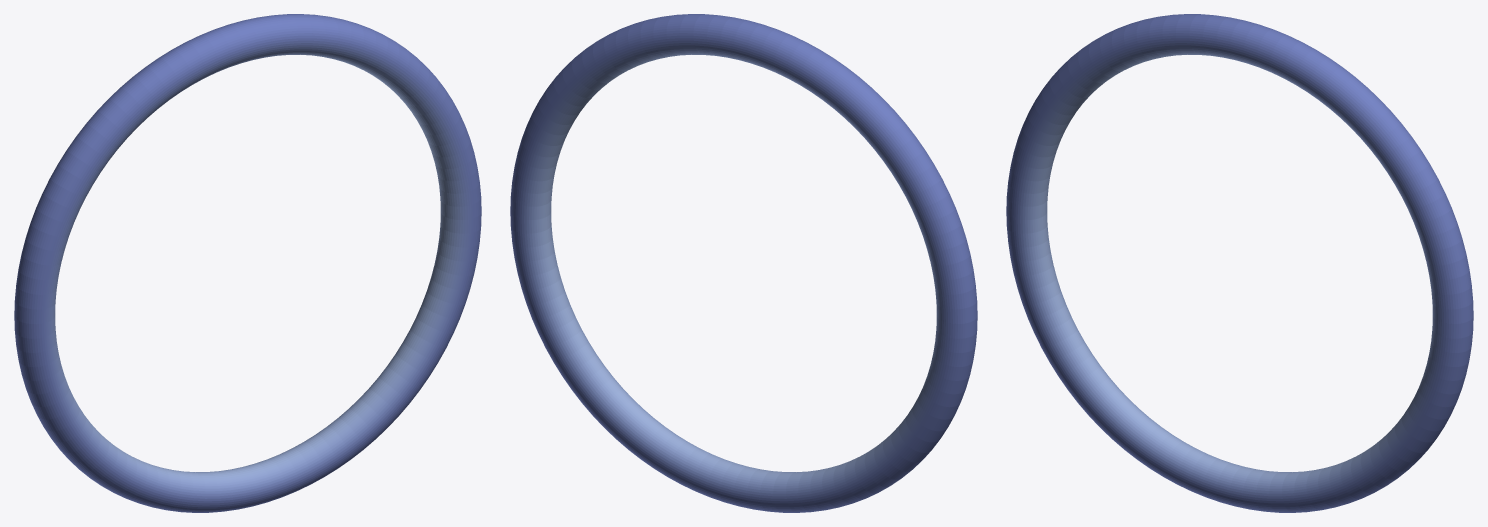
3 renders of one model, left to right at view 1: azimuth 30°, elevation 25°; view 2: azimuth 150°, elevation 25°; view 3: azimuth 330°, elevation 25°, orthographic.
Parts seen in each view (by area): view 1: world; view 2: world; view 3: world.
Part boxes in pixels (x1=…): world: x1=14, y1=14, x2=481, y2=512; world: x1=510, y1=14, x2=977, y2=512; world: x1=1006, y1=14, x2=1473, y2=512.
Bounding box in the file's own units: 29.6 × 29.6 × 2.26.
